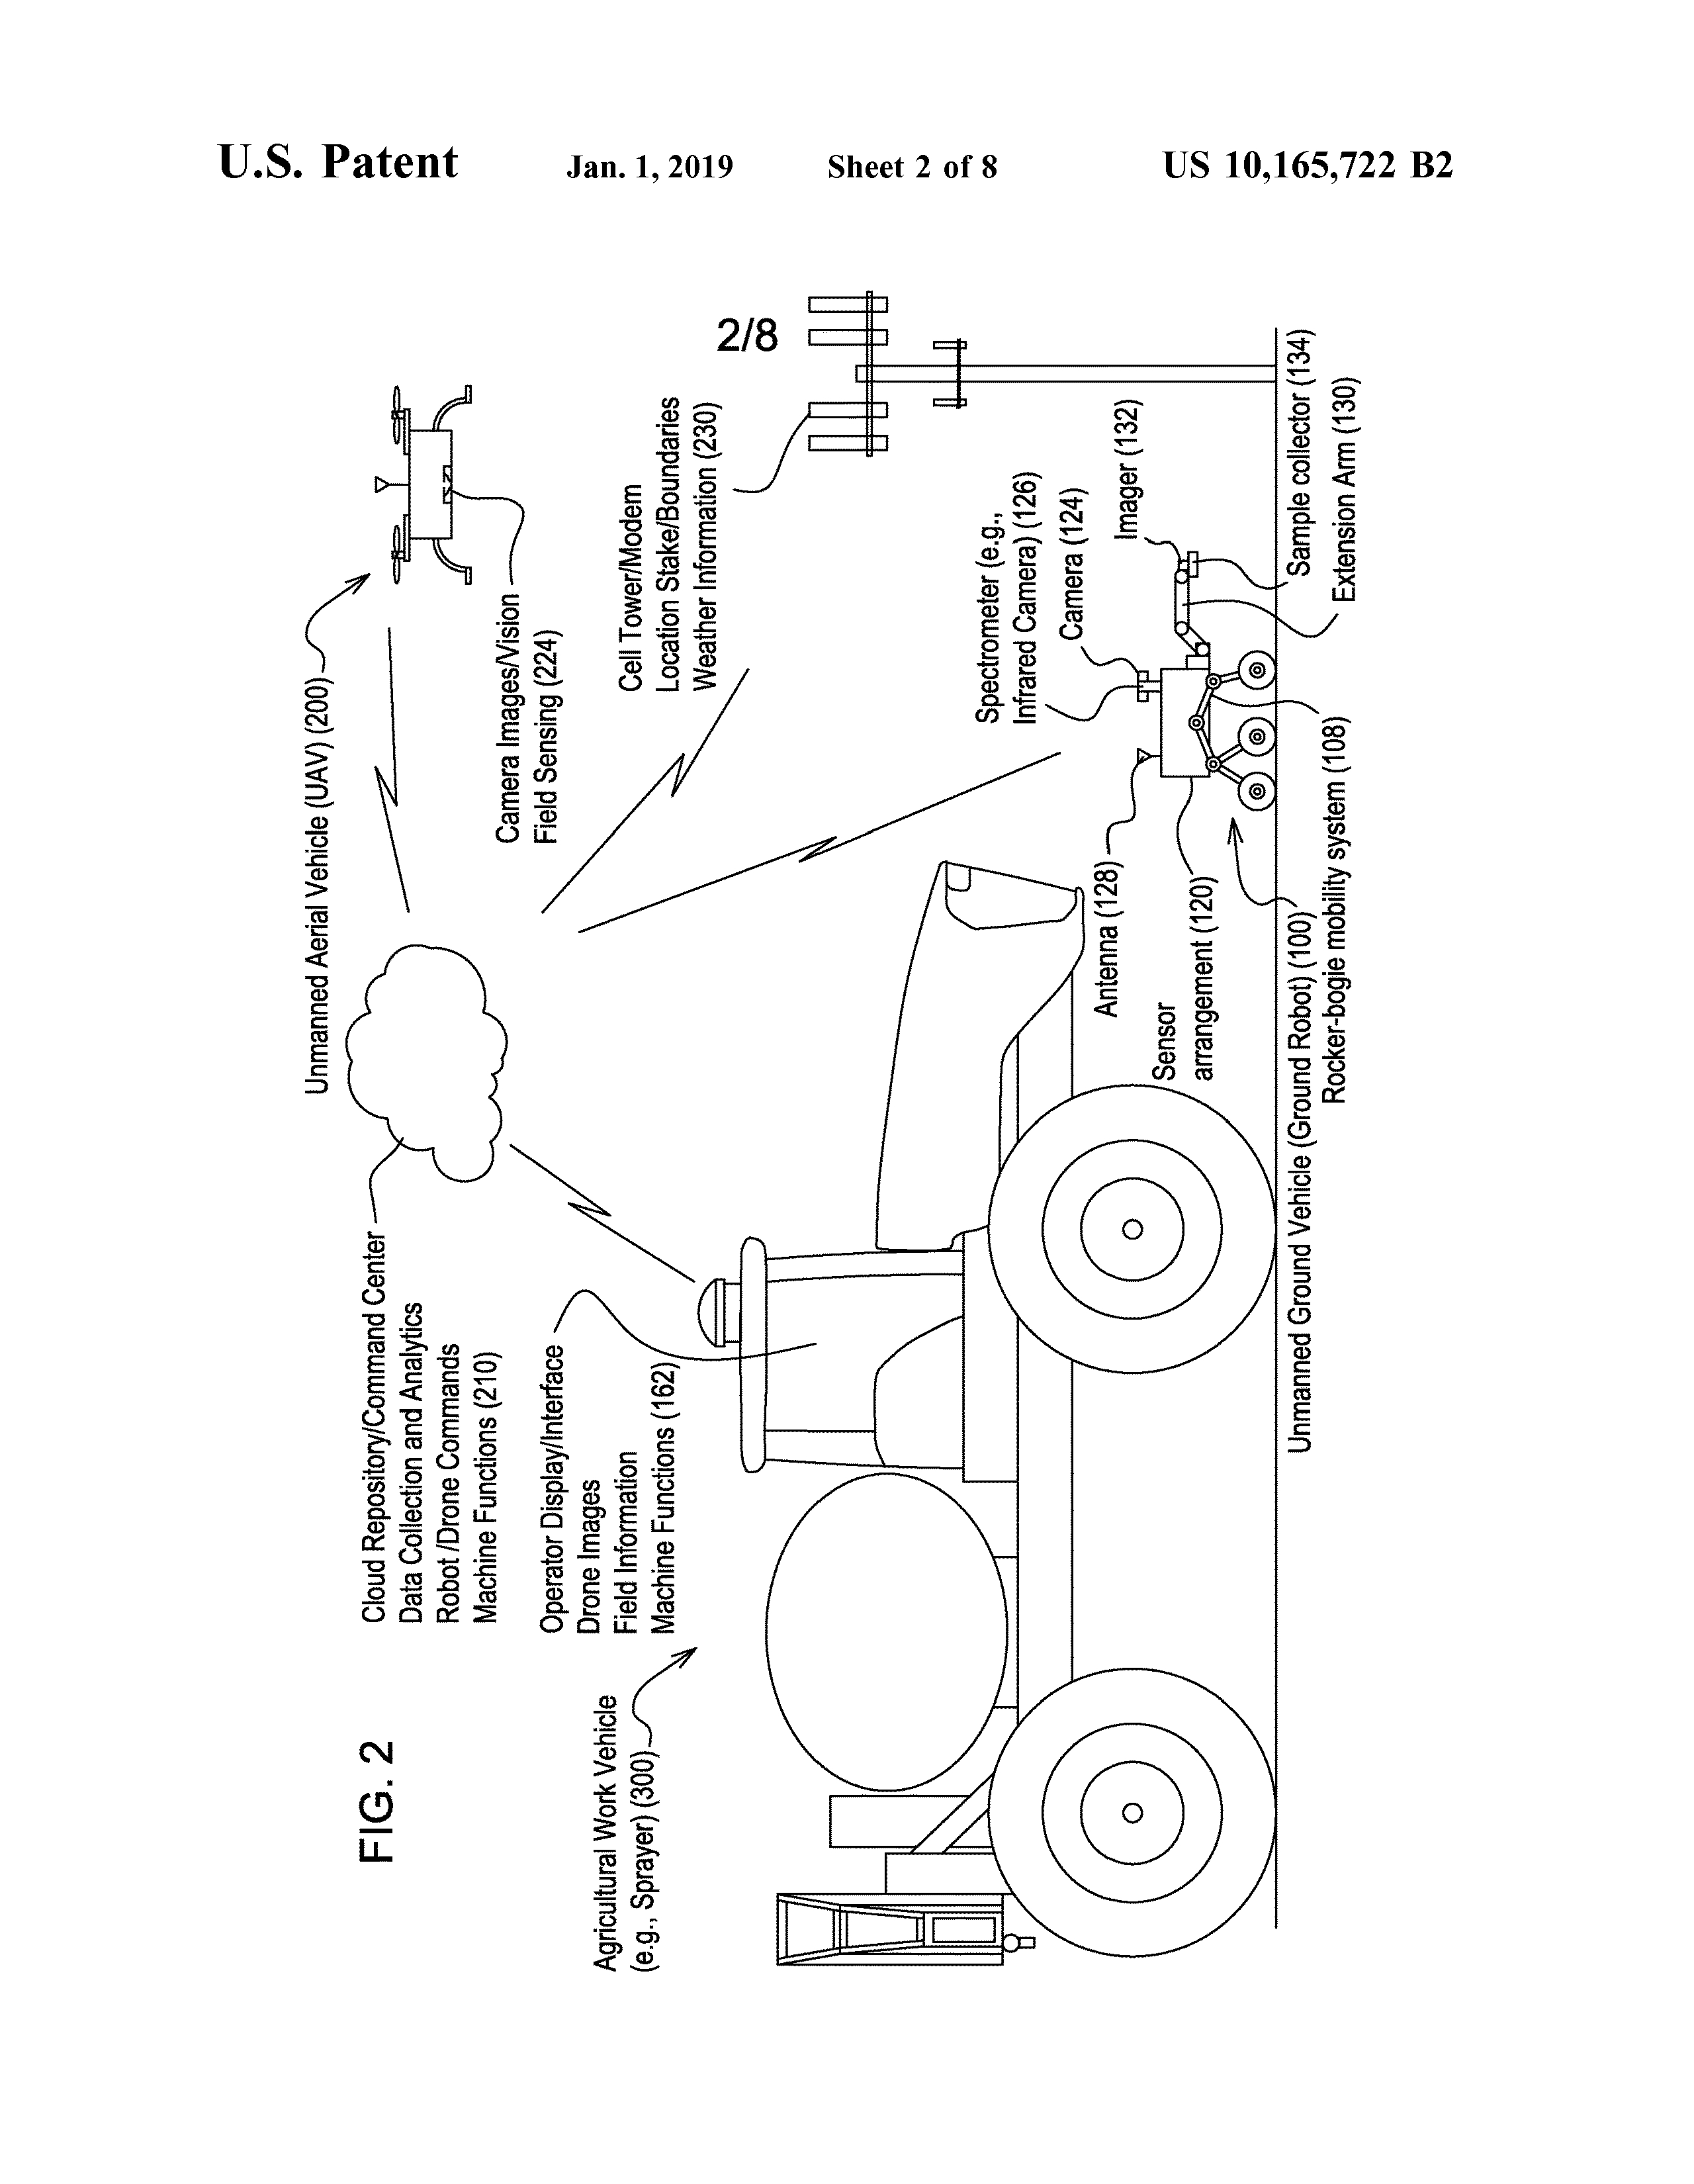patent image: (273, 256, 1447, 2020)
